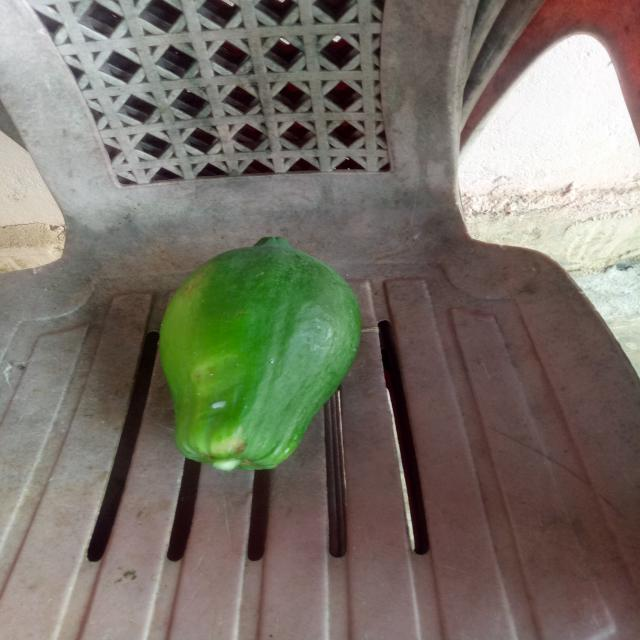Pepaya unrippen: (137, 228, 380, 482)
